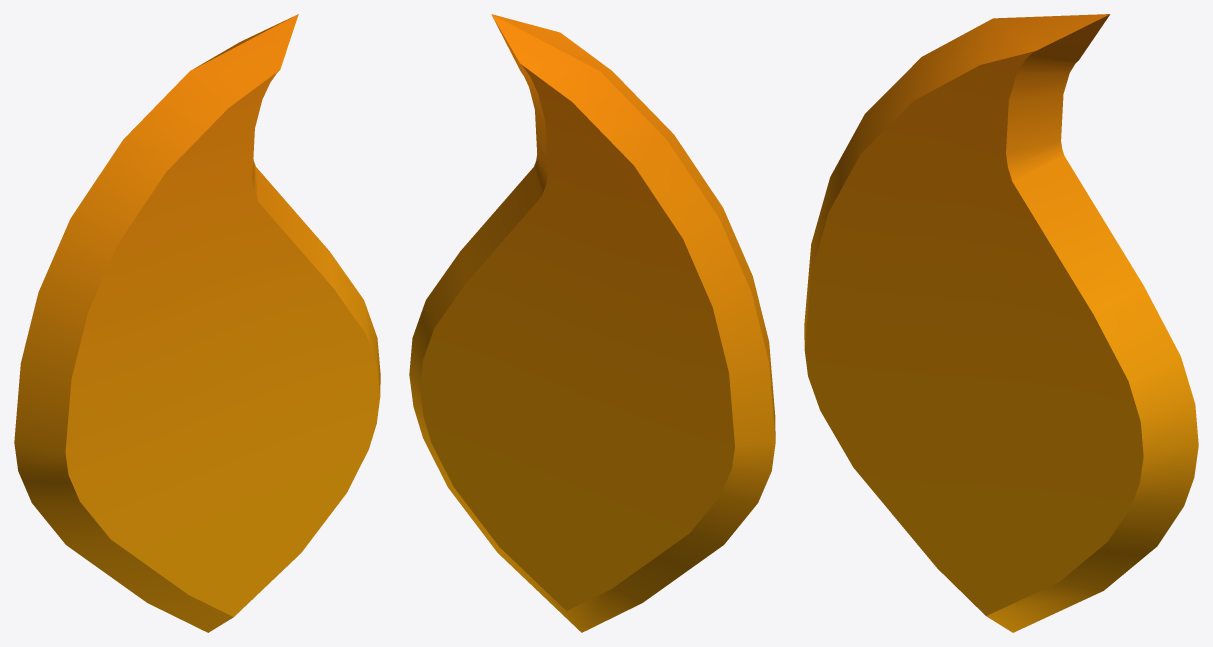
The model's file is FlameShape05.fbx.
The picture shows the model from 3 angles, left to right: view 1: azimuth 30°, elevation 25°; view 2: azimuth 150°, elevation 25°; view 3: azimuth 330°, elevation 25°; orthographic projection. The views are drawn at different scales.
Parts seen in each view (by area): view 1: FlameShape05; view 2: FlameShape05; view 3: FlameShape05.
Boxes of the visible parts, left/top/right/bottom form: FlameShape05: left=14, top=14, right=380, bottom=632; FlameShape05: left=409, top=14, right=775, bottom=632; FlameShape05: left=804, top=14, right=1198, bottom=632.
Size of the model in its own units: 58.39 by 90.89 by 11.09.
Materials: 1 (1 with a texture image).
